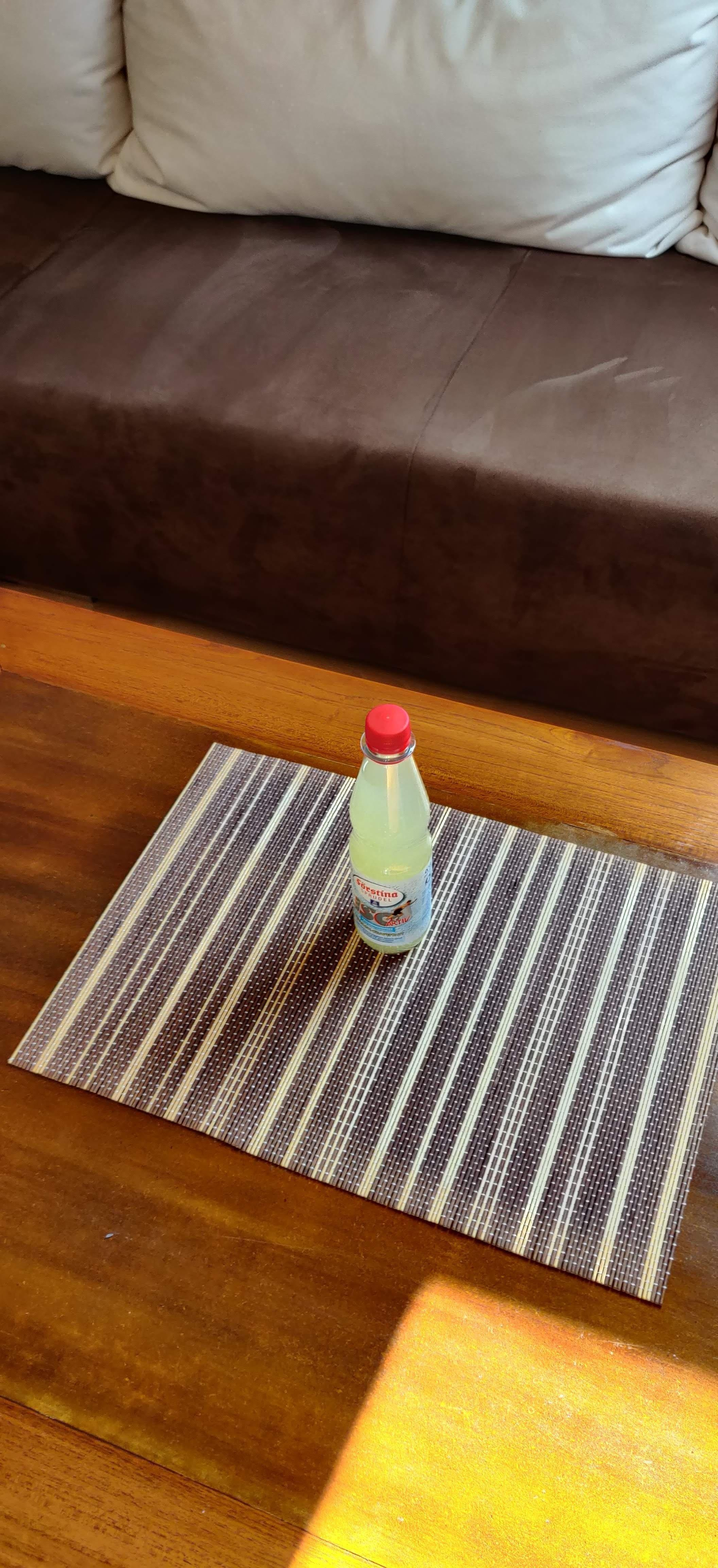bottle-plastic: (343, 699, 438, 959)
